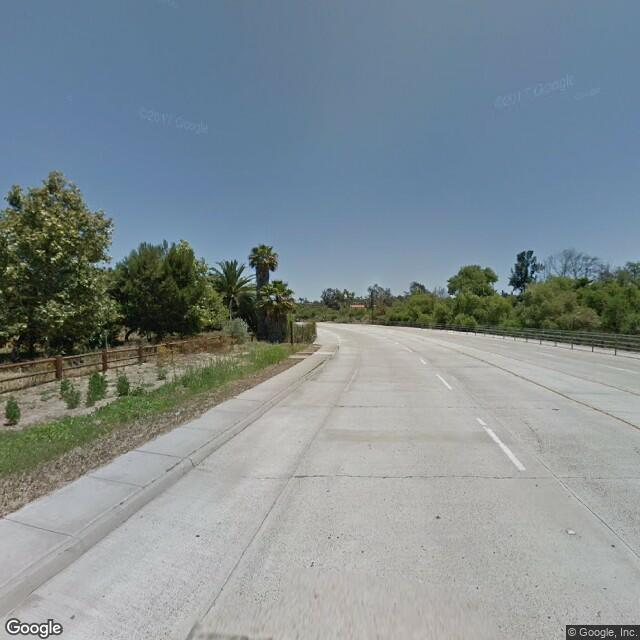litter: (175, 411, 183, 415)
